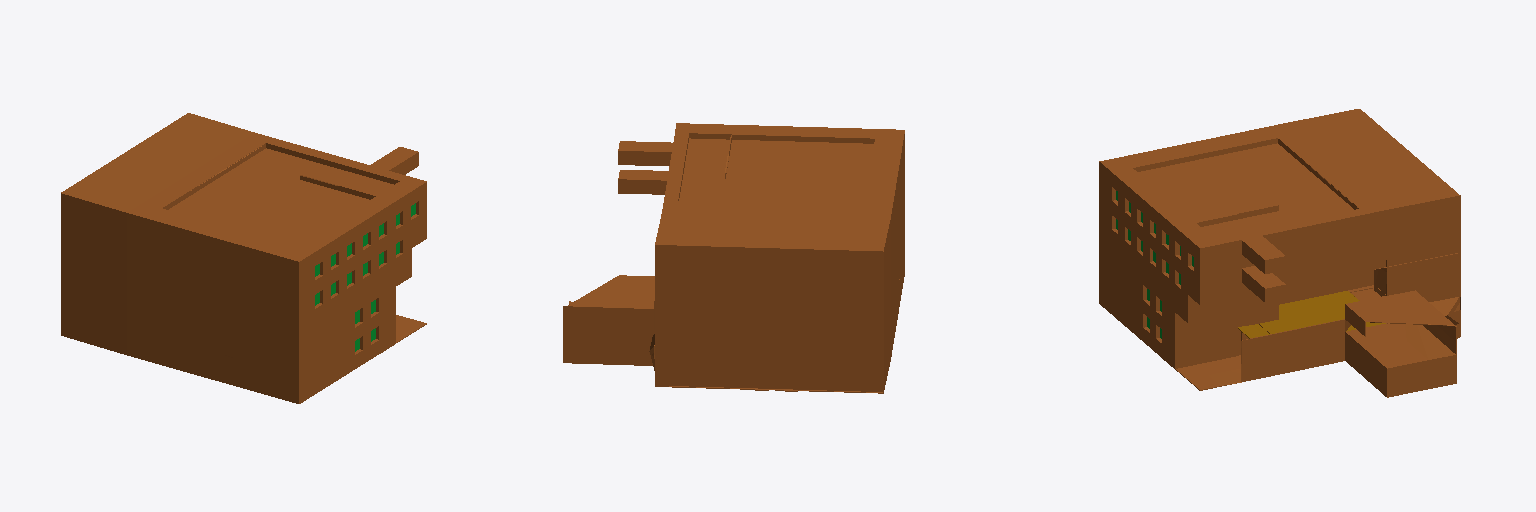
Rendered from tnp.obj.
3 views of the same model, side by side, from view 1: azimuth 30°, elevation 25°; view 2: azimuth 150°, elevation 25°; view 3: azimuth 270°, elevation 25° (orthographic).
Parts seen in each view (by area): view 1: Cube_Cube.001; view 2: Cube_Cube.001; view 3: Cube_Cube.001.
Boxes of the visible parts, x1,y1,x2,y2 form: Cube_Cube.001: [61, 113, 426, 403]; Cube_Cube.001: [563, 123, 904, 393]; Cube_Cube.001: [1099, 109, 1460, 397].
Size of the model in its own units: 3.8 by 1.67 by 3.82.